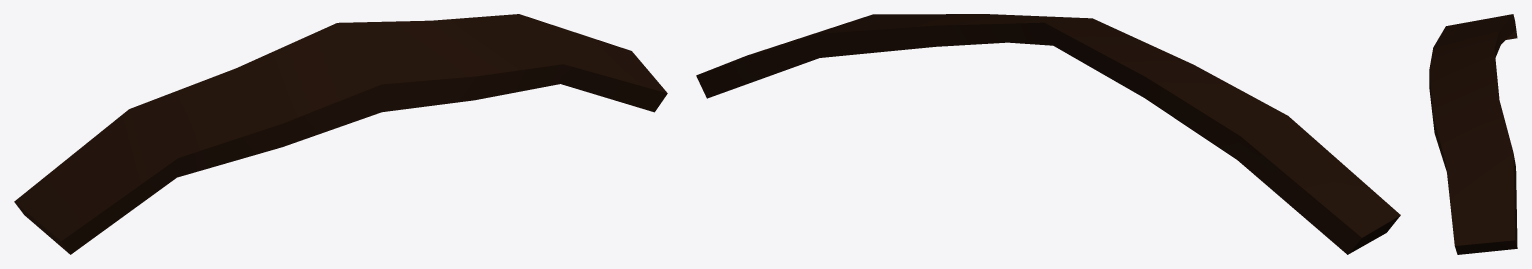
Rendered from Brow 08.FBX.
The picture shows the model from 3 angles, left to right: view 1: azimuth 30°, elevation 25°; view 2: azimuth 150°, elevation 25°; view 3: azimuth 270°, elevation 25°; orthographic projection. The views are drawn at different scales.
Parts seen in each view (by area): view 1: Brow 08; view 2: Brow 08; view 3: Brow 08.
Boxes of the visible parts, bbox=[...] form: Brow 08: bbox=[14, 14, 667, 254]; Brow 08: bbox=[696, 14, 1400, 254]; Brow 08: bbox=[1429, 14, 1517, 254].
Bounding box in the file's own units: 22.49 × 3.82 × 4.95.
